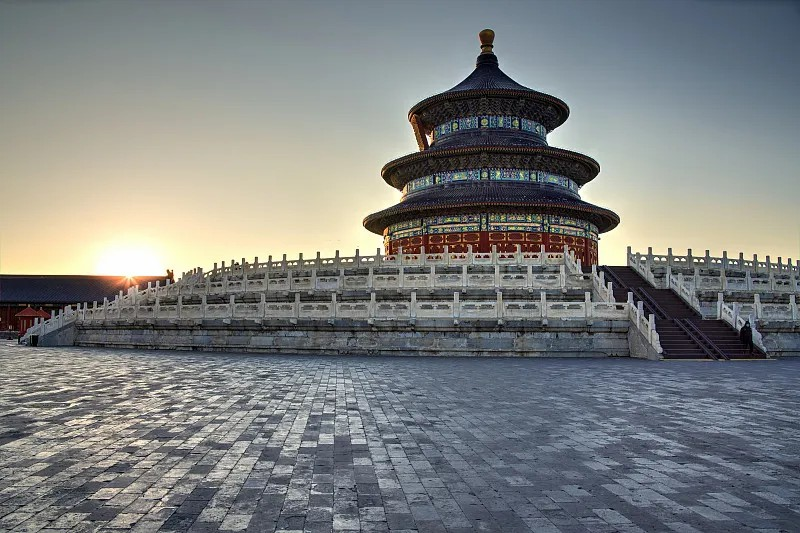Heaven: (363, 27, 621, 269)
